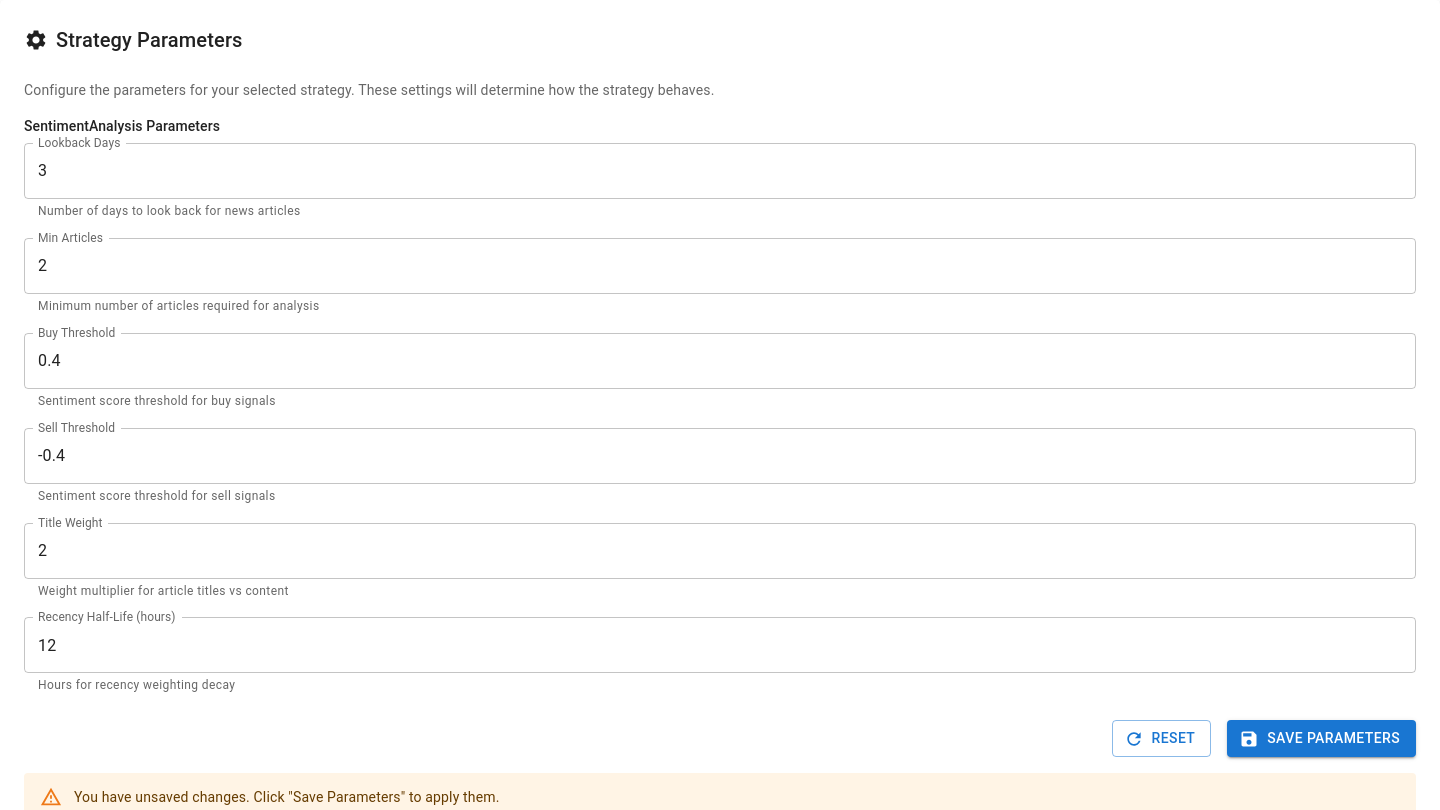
Test case: StrategyParameters Component › Validation Logic › should validate number field minimum values correctly
Note: Set value below minimum (min is 1)
Replace the text in the number field labelled "Lookback Days" with "0". click: (720, 171)
box: [24, 143, 1416, 199]
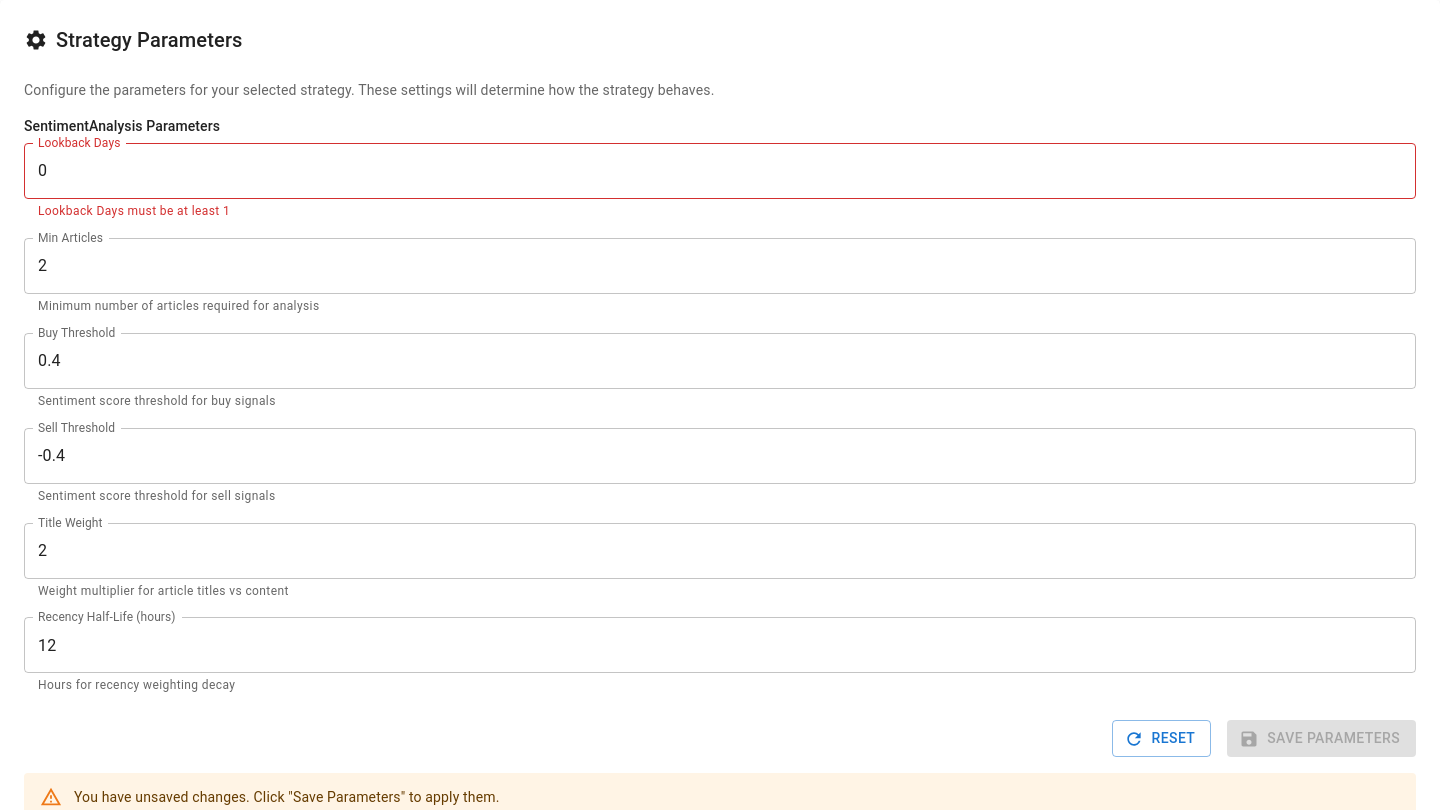
Check: the text "Lookback Days must be at least 1" is shown, box [38, 204, 230, 218]
